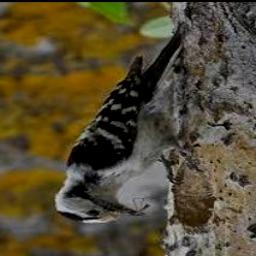Woodpecker: (54, 29, 184, 224)
